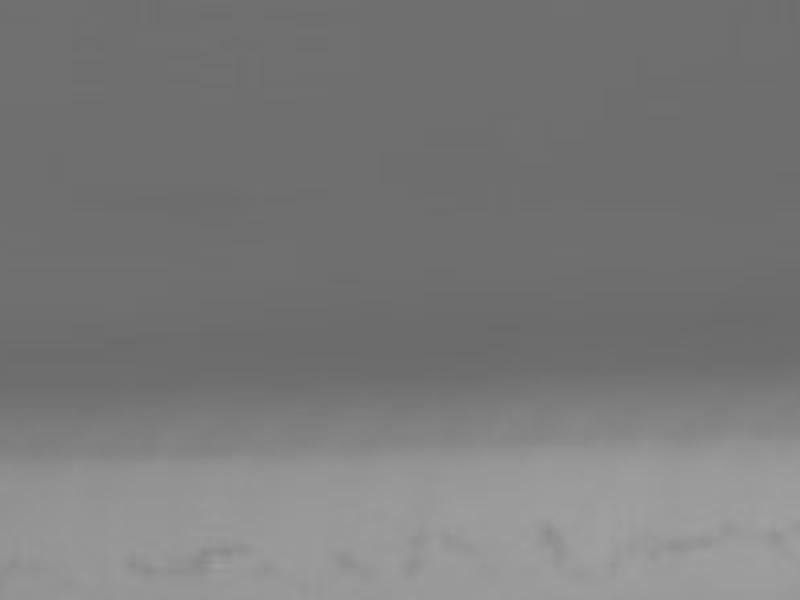defect: (124, 548, 156, 576), (438, 529, 469, 554), (542, 520, 565, 544), (187, 552, 209, 577), (218, 540, 248, 558), (401, 553, 427, 573), (660, 536, 686, 555), (689, 529, 712, 550), (715, 516, 739, 536), (764, 527, 788, 546), (259, 559, 280, 580), (408, 527, 429, 547), (547, 544, 567, 564), (338, 552, 357, 573), (197, 543, 214, 559)
